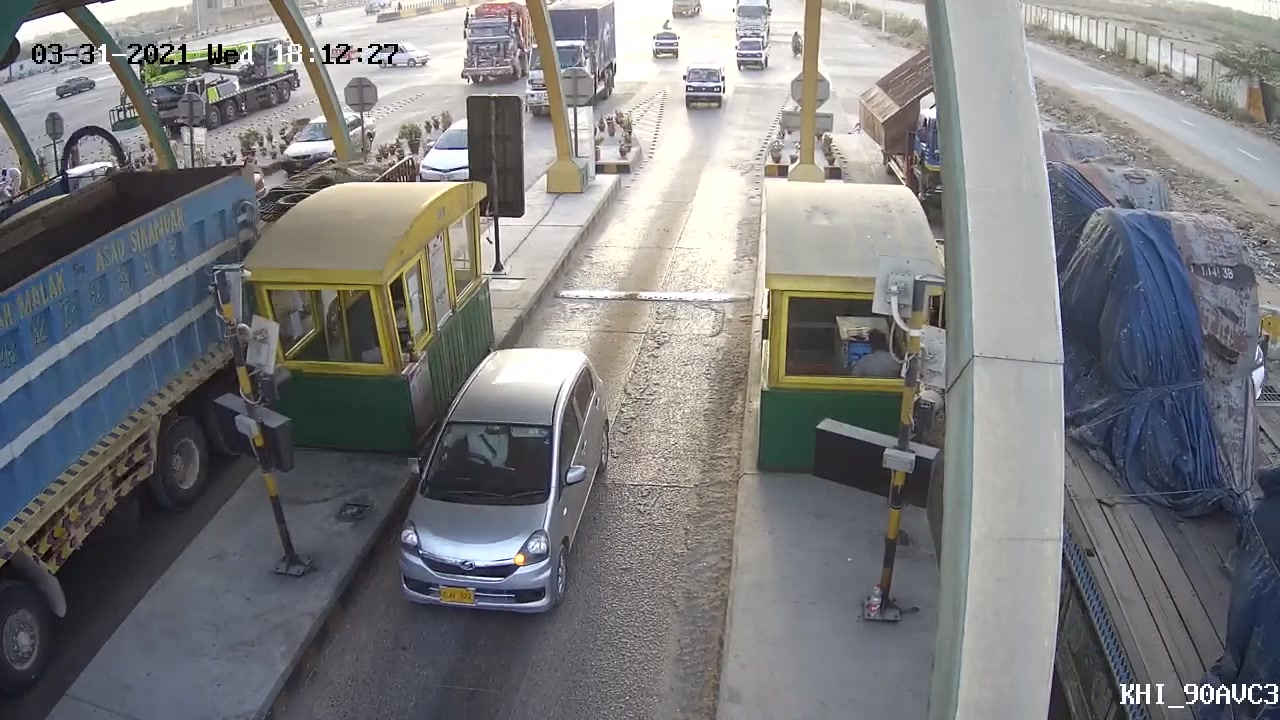F1: (383, 342, 626, 618)
